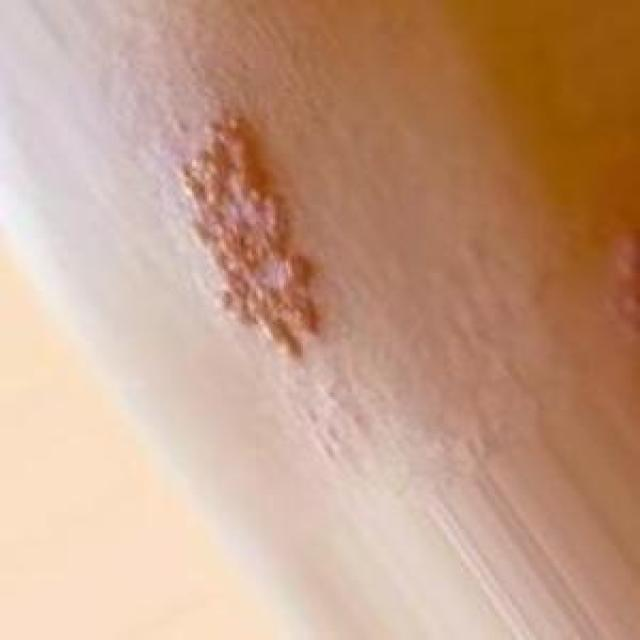Shingles: (173, 110, 318, 358)
